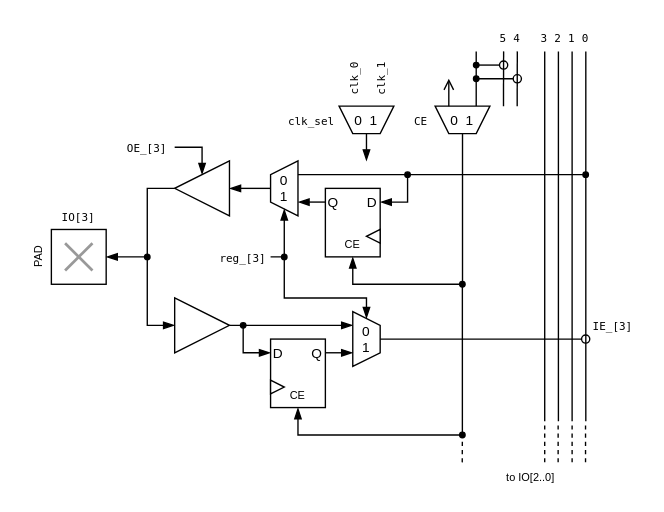
Image size: 664x512. Some labels were removed from this diagram. The centre of each missing label's shape, as x and y in pixels:
"TRG" goes at pixel 201 325.
"TRI" goes at pixel 201 188.
